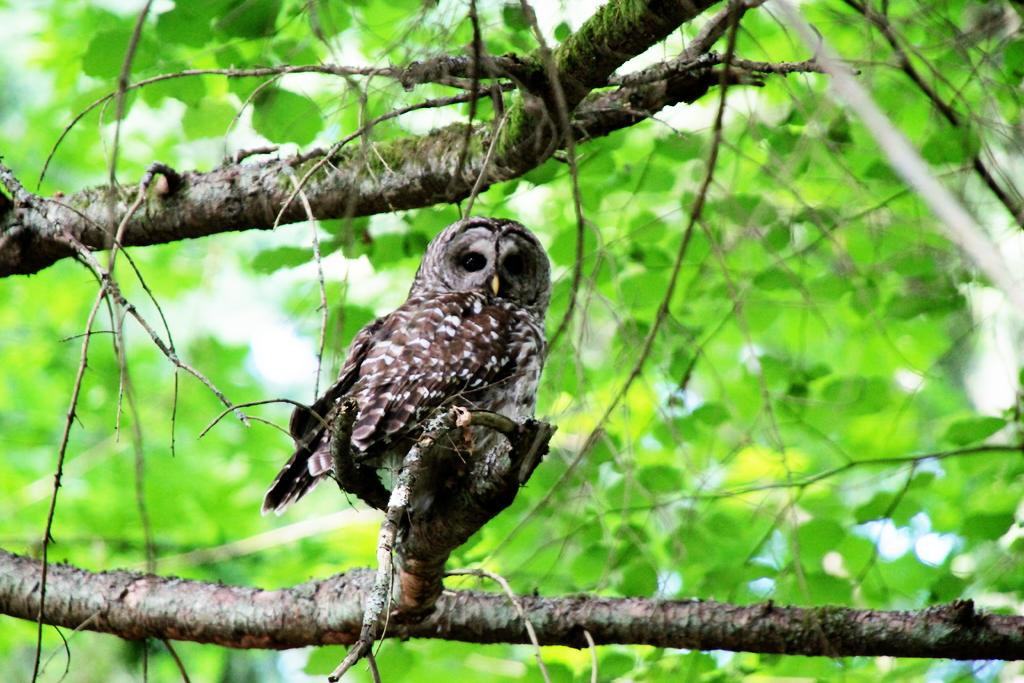Owl: (260, 213, 552, 539)
